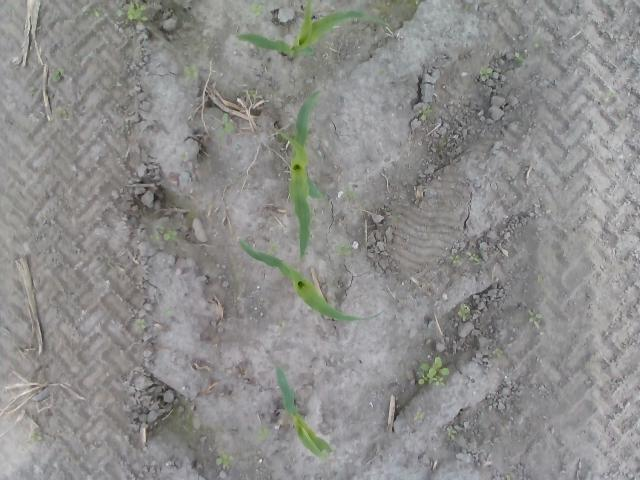Maize: (237, 237, 385, 324), (238, 0, 384, 60), (280, 89, 324, 262), (276, 366, 334, 458)
Weeds: (418, 356, 448, 386), (115, 0, 148, 22), (152, 224, 176, 242), (222, 112, 237, 133), (527, 308, 544, 326), (248, 2, 268, 17), (184, 63, 200, 81), (216, 452, 234, 467), (458, 303, 472, 322), (84, 6, 109, 16), (418, 104, 433, 120), (266, 240, 280, 256), (478, 66, 493, 80), (51, 64, 64, 80), (466, 252, 482, 264), (336, 243, 352, 253), (447, 426, 458, 440), (178, 150, 190, 162), (414, 409, 426, 421), (135, 317, 146, 330), (344, 190, 358, 200), (492, 348, 504, 359), (448, 254, 461, 264), (259, 428, 269, 439), (246, 87, 256, 98), (31, 431, 42, 440)
